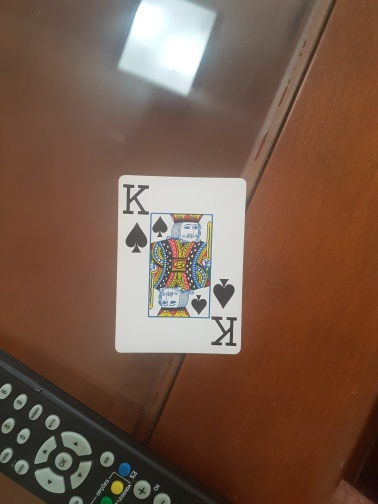king: (112, 176, 245, 355)
